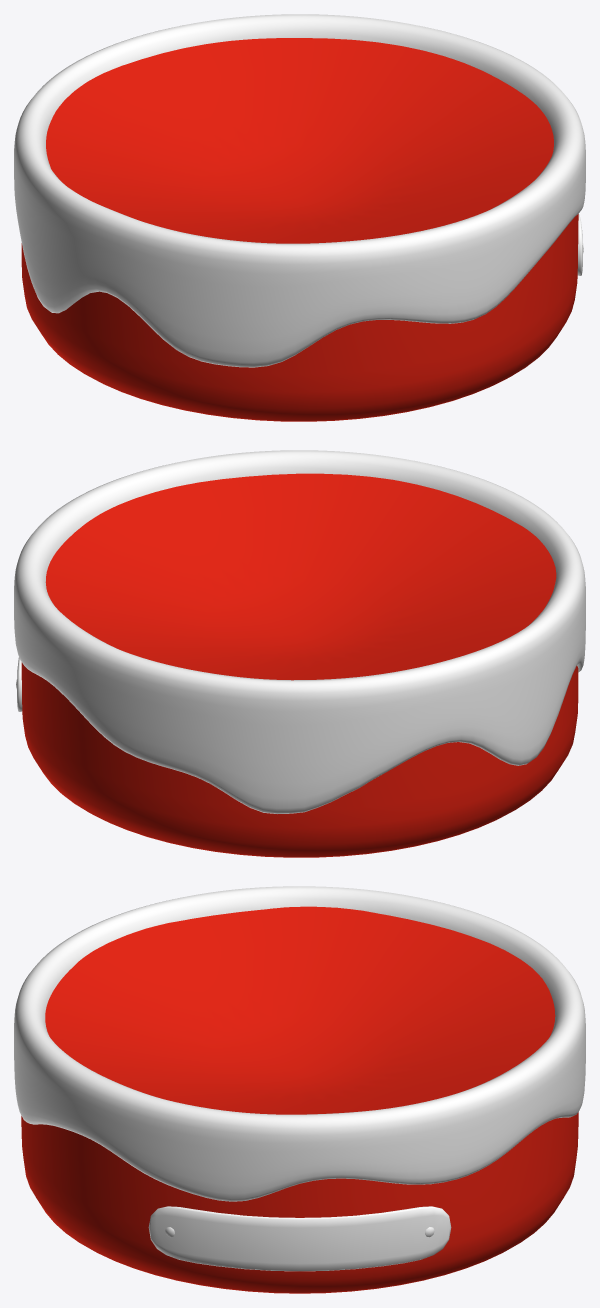
The model's file is bottom1.glb.
3 views of the same model, one above another, from view 1: azimuth 30°, elevation 25°; view 2: azimuth 150°, elevation 25°; view 3: azimuth 270°, elevation 25° (orthographic).
Visible parts, largest first — view 1: mainColor, Cylinder.001; view 2: mainColor, Cylinder.001; view 3: mainColor, Cylinder.001, nameTag.
Part boxes in pixels (box(x1,y1,x2,y2)): mainColor: box(21, 38, 578, 421); Cylinder.001: box(14, 14, 585, 367); mainColor: box(21, 473, 578, 857); Cylinder.001: box(14, 450, 585, 813); mainColor: box(21, 906, 578, 1293); Cylinder.001: box(14, 886, 585, 1201); nameTag: box(148, 1206, 451, 1271).
Size of the model in its own units: 10.64 by 3.74 by 10.64.
